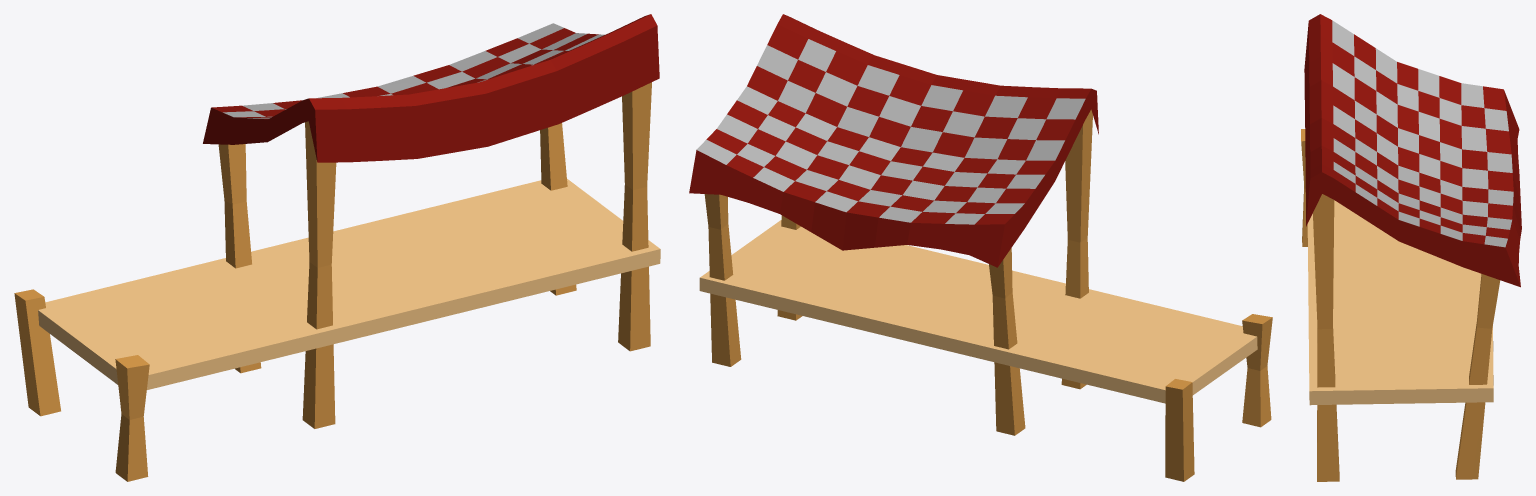
The model's file is market.glb.
The picture shows the model from 3 angles, left to right: view 1: azimuth 30°, elevation 25°; view 2: azimuth 150°, elevation 25°; view 3: azimuth 270°, elevation 25°; orthographic projection. The views are drawn at different scales.
Visible parts, largest first — view 1: Market_FirstAge_Level2; view 2: Market_FirstAge_Level2; view 3: Market_FirstAge_Level2.
Part boxes in pixels (left/top/right/bottom): Market_FirstAge_Level2: left=14, top=14, right=660, bottom=481; Market_FirstAge_Level2: left=689, top=14, right=1272, bottom=481; Market_FirstAge_Level2: left=1301, top=14, right=1521, bottom=481.
Size of the model in its own units: 3.98 by 2.31 by 1.48.
